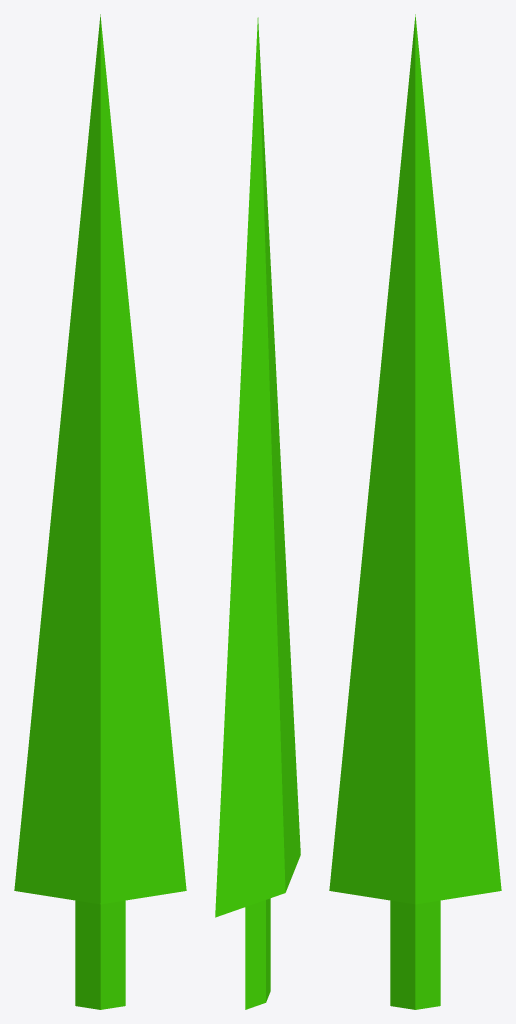
The model's file is GrassBlade.fbx.
3 renders of one model, left to right at view 1: azimuth 90°, elevation 25°; view 2: azimuth 150°, elevation 25°; view 3: azimuth 270°, elevation 25°, orthographic.
Parts seen in each view (by area): view 1: Cylinder; view 2: Cylinder; view 3: Cylinder.
Part boxes in pixels (x1,y1,x2,y2): Cylinder: (14,14,186,1009); Cylinder: (215,17,300,1009); Cylinder: (329,14,501,1009).
Size of the model in its own units: 58.41 by 999 by 157.
